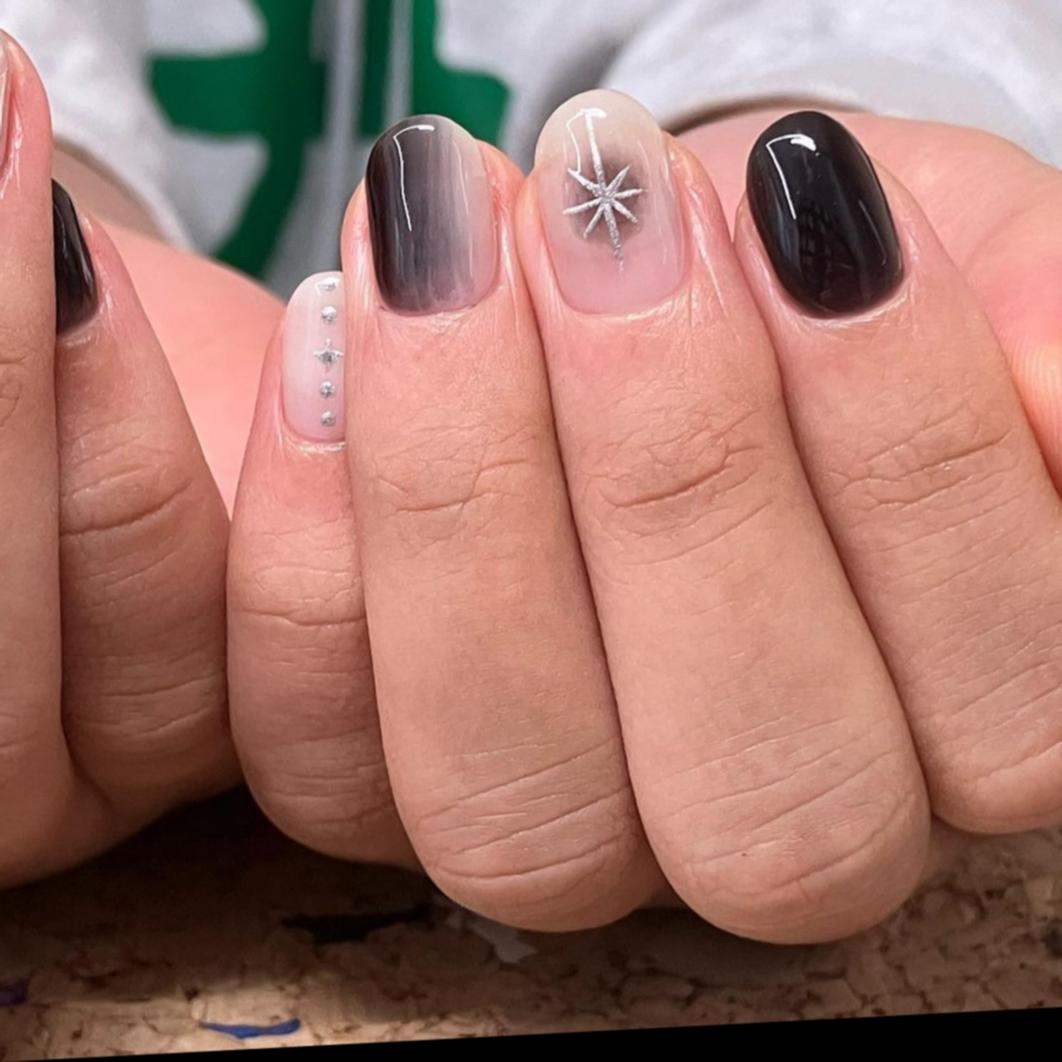nail: (515, 68, 934, 961), (340, 97, 681, 945), (745, 102, 909, 324), (365, 108, 501, 317)
